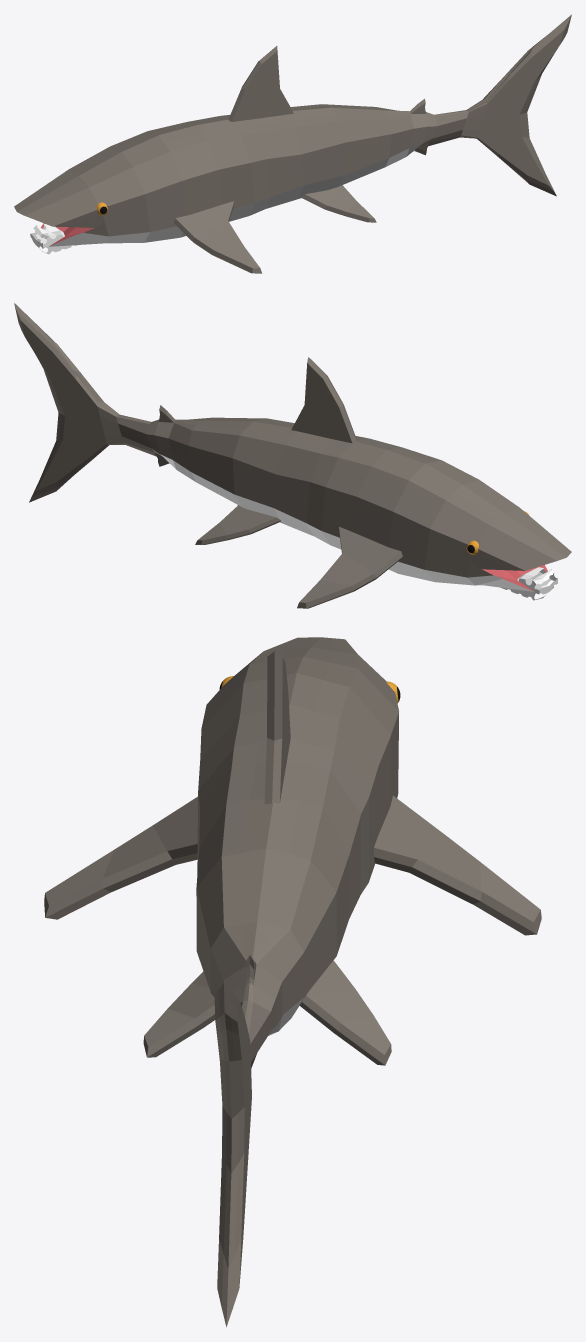
Rendered from Helicoprion.fbx.
3 renders of one model, top to bottom at view 1: azimuth 30°, elevation 25°; view 2: azimuth 150°, elevation 25°; view 3: azimuth 270°, elevation 25°, orthographic. The views are drawn at different scales.
Parts seen in each view (by area): view 1: Plane.007; view 2: Plane.007; view 3: Plane.007.
Boxes of the visible parts, x1,y1,x2,y2 form: Plane.007: (14, 14, 571, 273); Plane.007: (14, 303, 571, 608); Plane.007: (44, 637, 541, 1327).
Size of the model in its own units: 5.15 by 1.93 by 2.09.
Materials: 6 (1 with a texture image).
